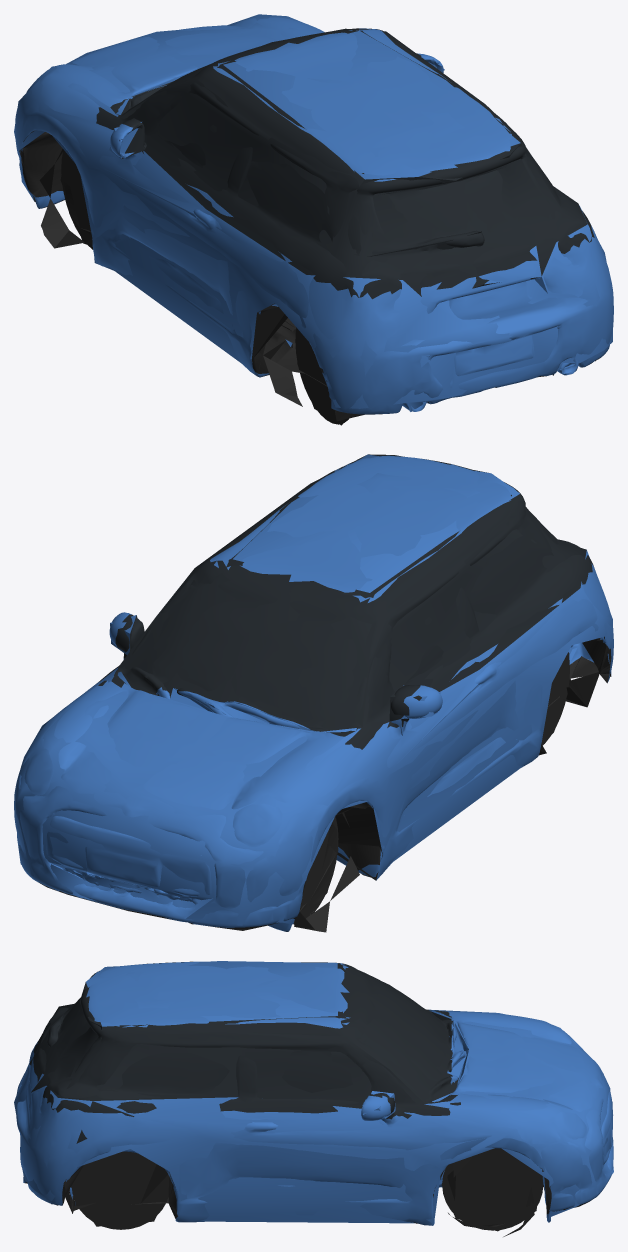
Rendered from mini-john-cooper-works.glb.
The picture shows the model from 3 angles, top to bottom: view 1: azimuth 30°, elevation 25°; view 2: azimuth 150°, elevation 25°; view 3: azimuth 270°, elevation 25°; orthographic projection. The views are drawn at different scales.
Parts seen in each view (by area): view 1: body, far; view 2: body, far; view 3: body, far.
Part boxes in pixels (<box>): body: <box>15,17,613,424</box>; far: <box>14,14,612,425</box>; body: <box>14,455,613,932</box>; far: <box>15,454,612,928</box>; body: <box>16,961,613,1236</box>; far: <box>14,961,613,1231</box>.
Bounding box in the file's own units: 1.96 × 1.45 × 3.92.
